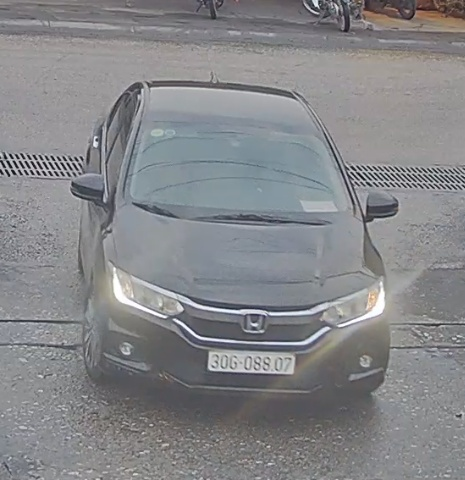vehicle plate: (208, 346, 300, 376)
